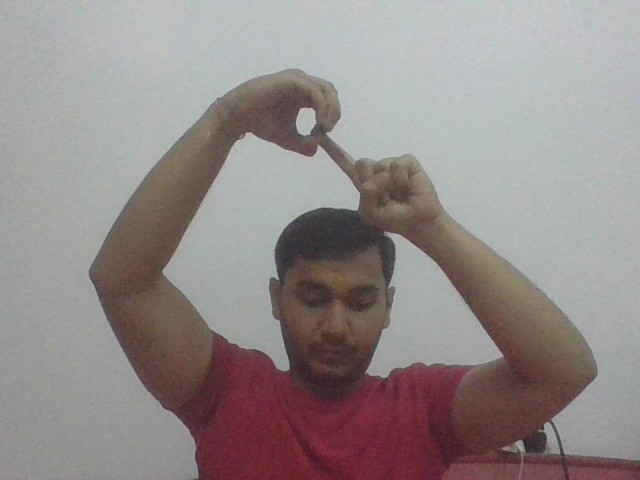Q: (260, 64, 394, 207)
